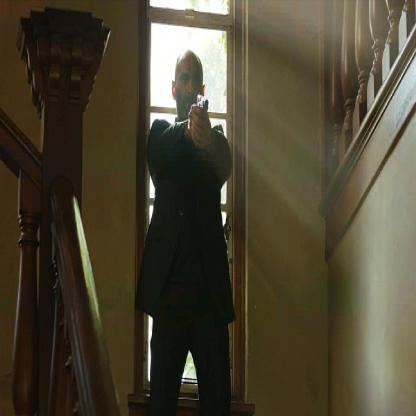Guns: (196, 90, 210, 129)
